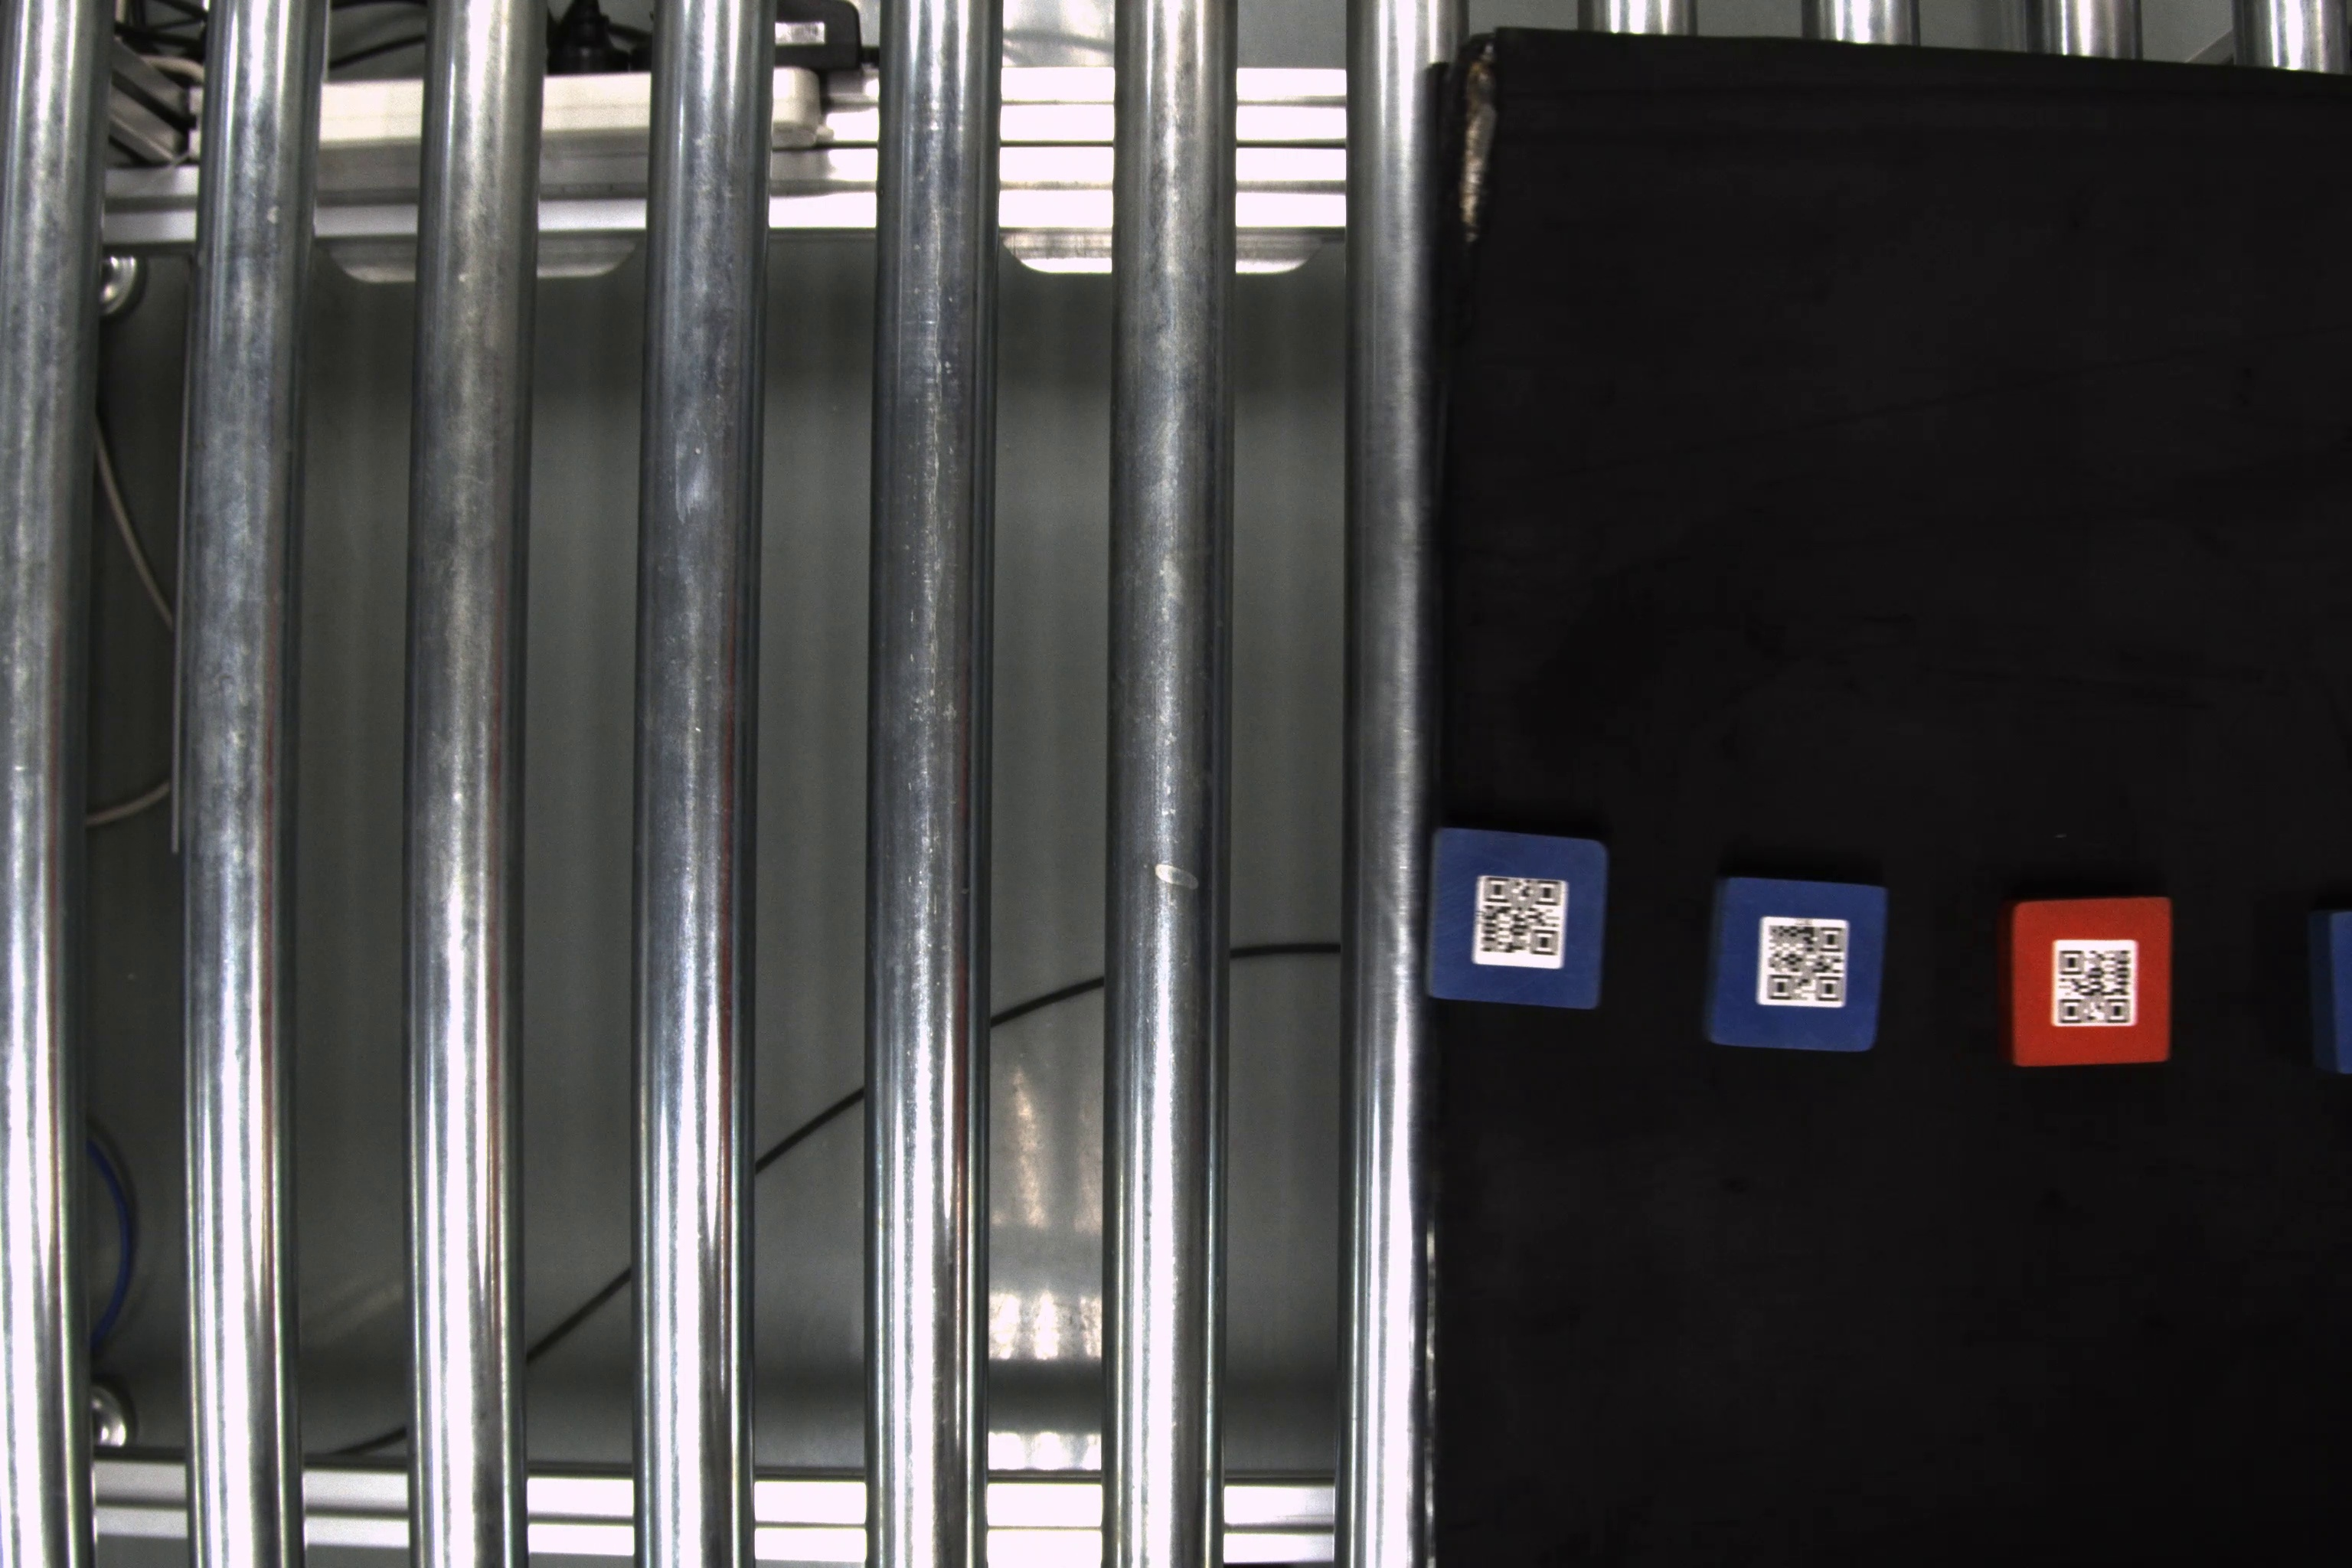wood: (1703, 871, 1897, 1053), (1421, 829, 1613, 1011), (1998, 891, 2173, 1073)
